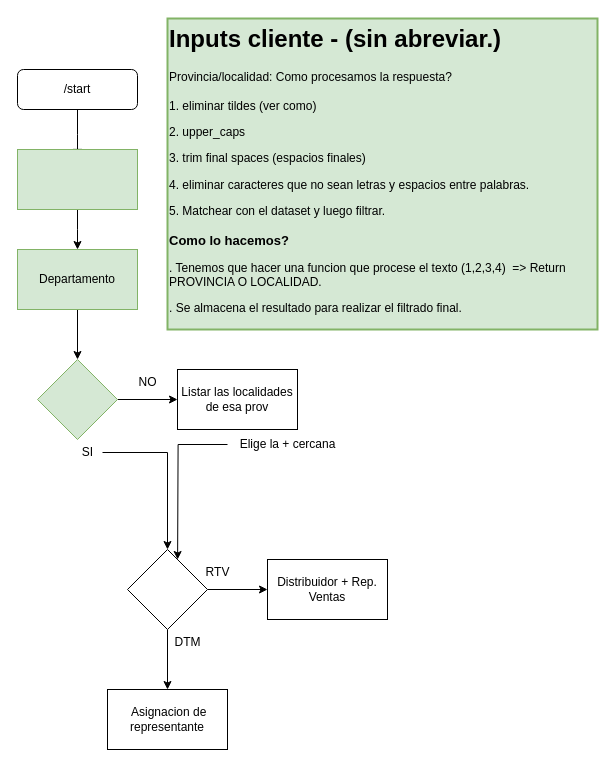
This 616x767 diagram has some shape labels left out. Each missing label, with the centre of its shape:
"Localidad" belongs at [77,399].
"Provincia" belongs at [77,179].
"RTV/DTM" belongs at [167,589].
